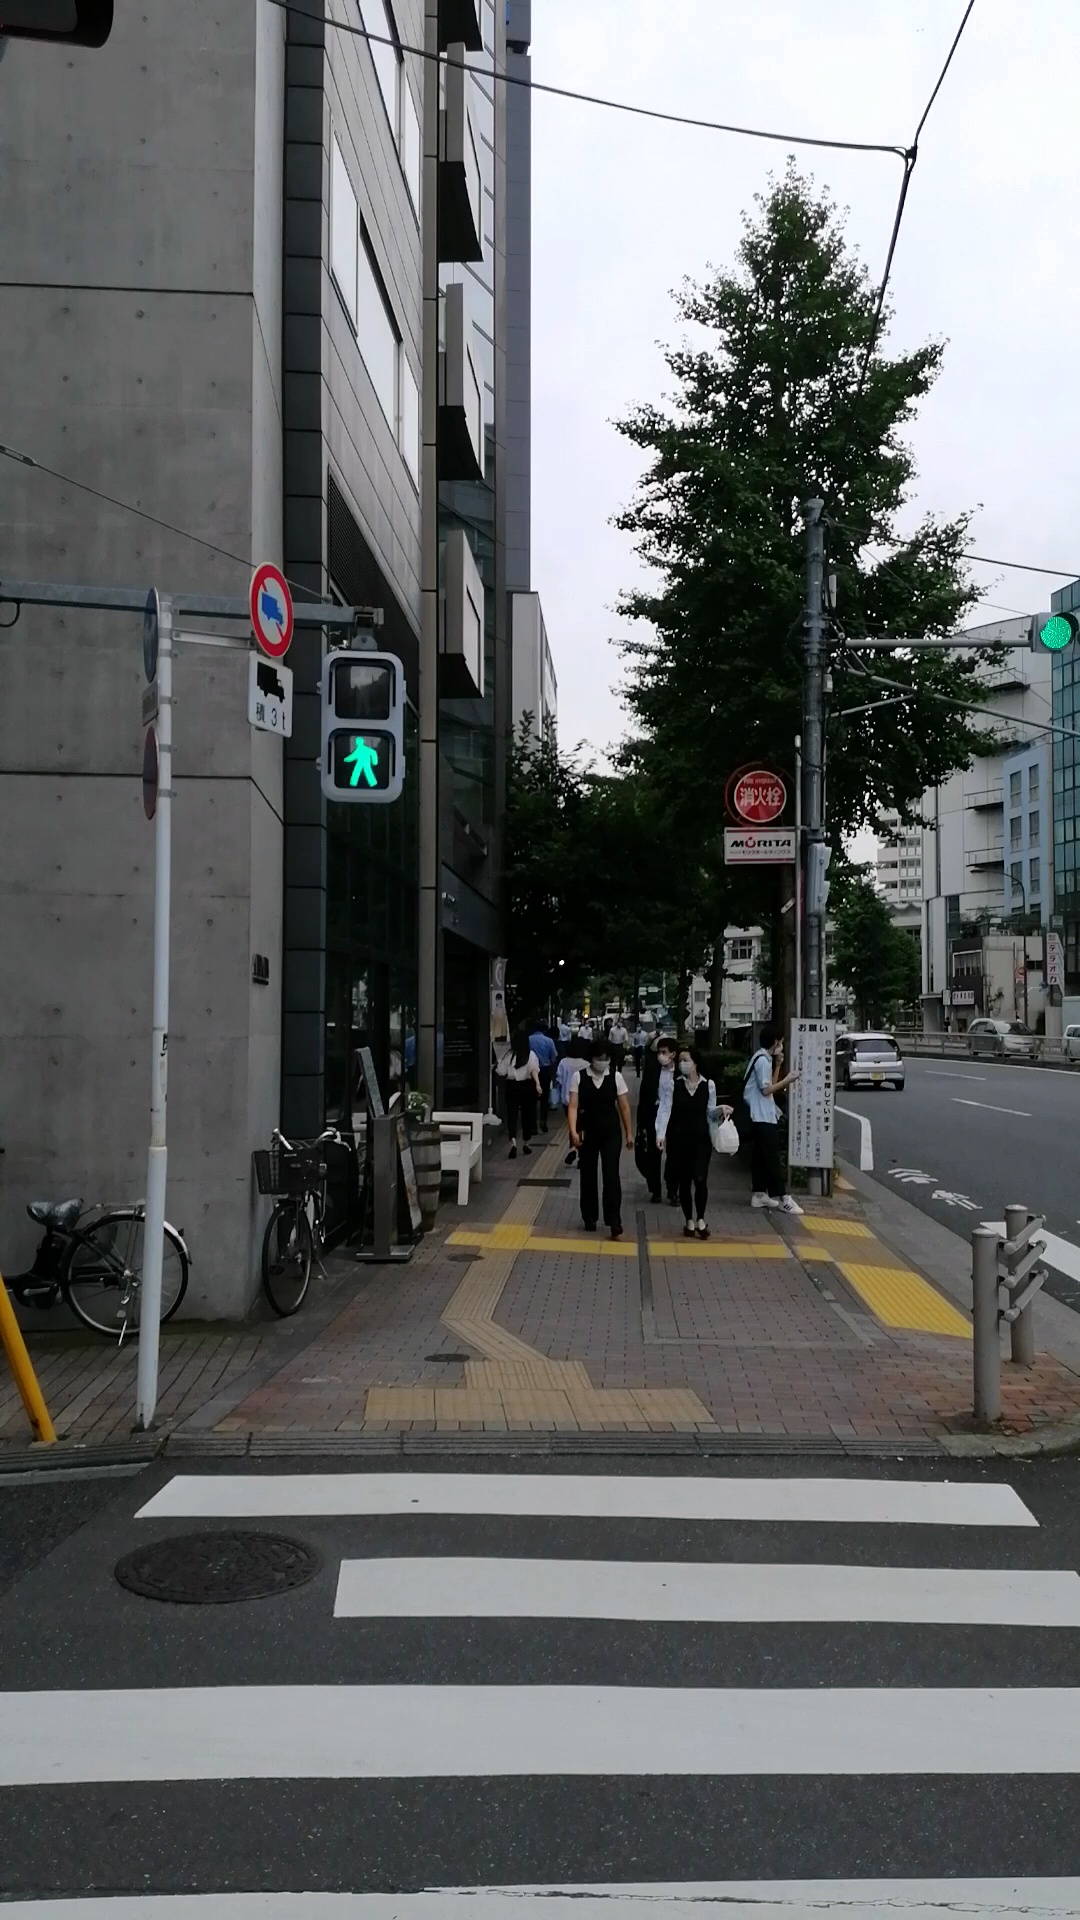green: (319, 646, 406, 807)
